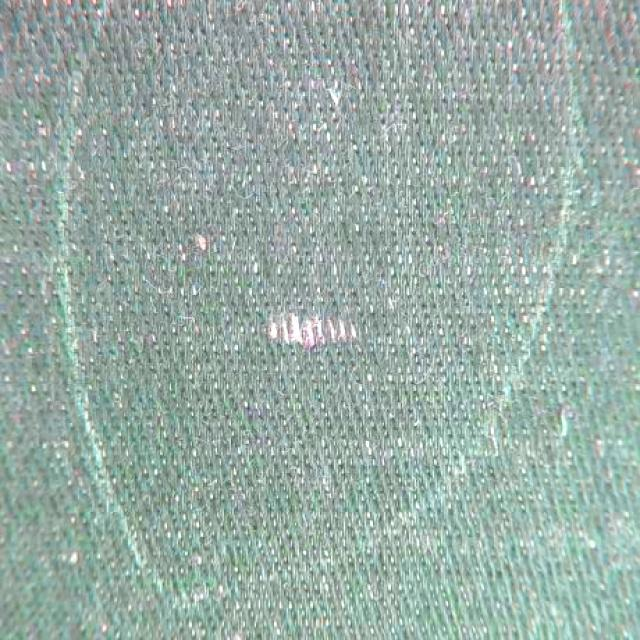stains: (212, 268, 436, 428)
